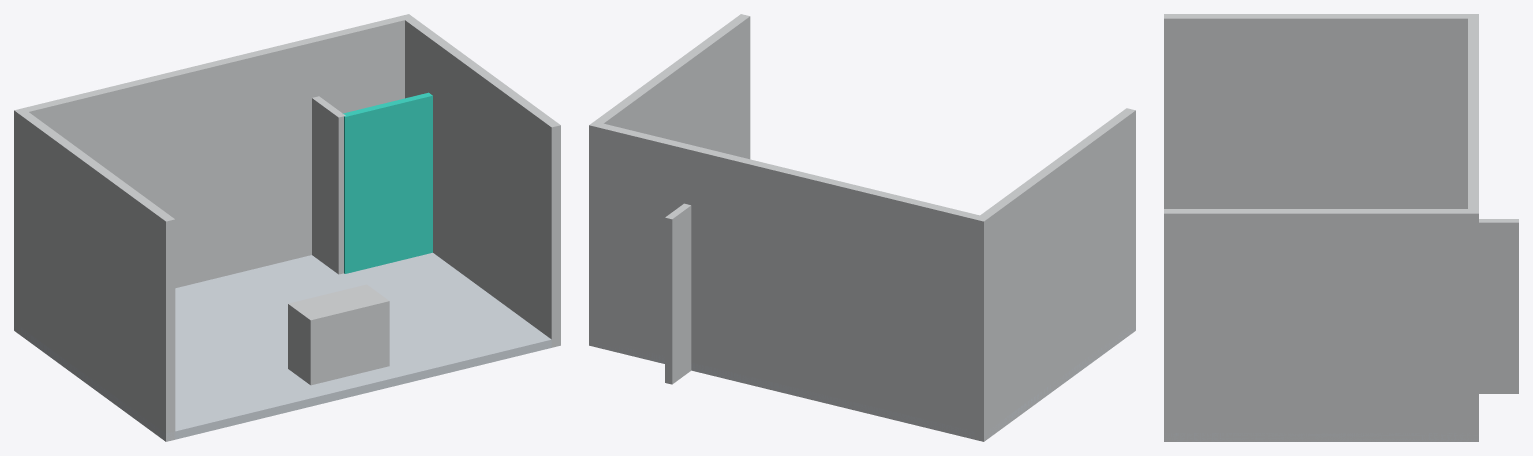
3 views of the same model, side by side, from view 1: azimuth 30°, elevation 25°; view 2: azimuth 150°, elevation 25°; view 3: azimuth 270°, elevation 25° (orthographic). The views are drawn at different scales.
Parts seen in each view (by area): view 1: Exhibition Booth Concept; view 2: Exhibition Booth Concept; view 3: Exhibition Booth Concept.
Part boxes in pixels (box(x1,y1,x2,y2)): Exhibition Booth Concept: box(14, 14, 560, 441); Exhibition Booth Concept: box(589, 14, 1135, 441); Exhibition Booth Concept: box(1164, 14, 1518, 441).
Bounding box in the file's own units: 6 × 3.2 × 4.51.
